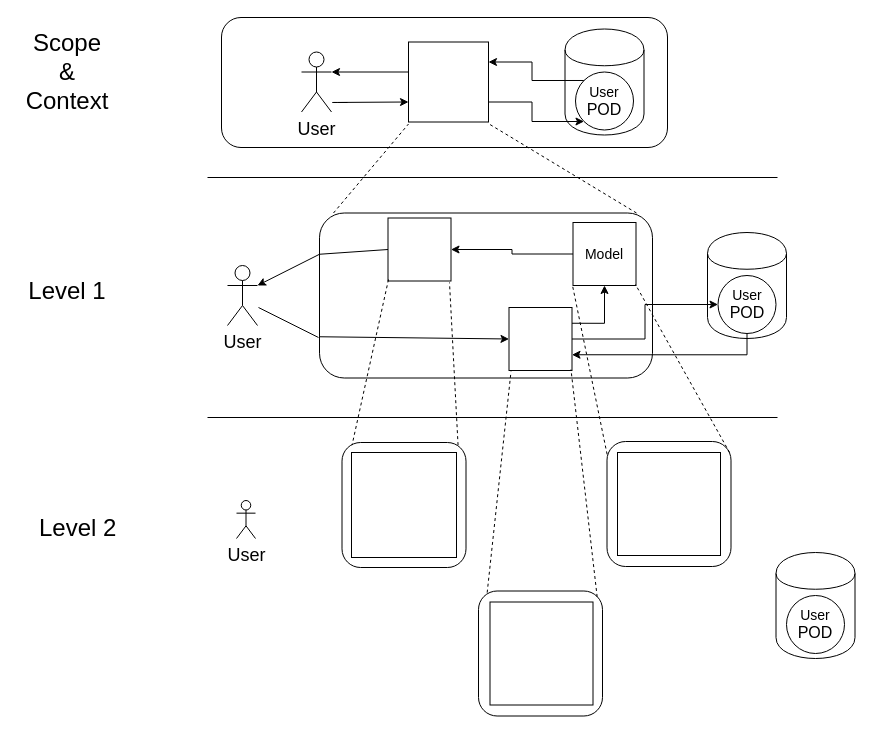
Some shapes in this 872 by 734 pixel diagram are drawn without their labels. Each missing label, with the centre of its shape:
"Controller" goes at pixel 540 338.
"DeChat" goes at pixel 448 81.
"View" goes at pixel 419 249.
